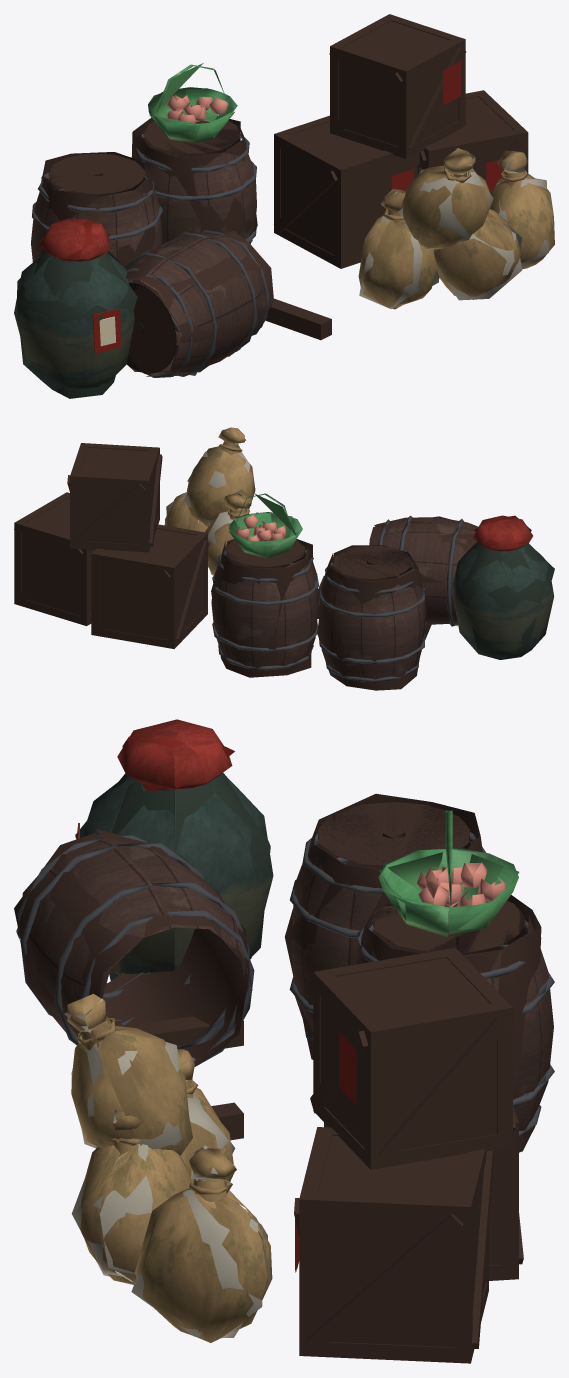
The model's file is prop_market_goods.gltf.
3 renders of one model, top to bottom at view 1: azimuth 30°, elevation 25°; view 2: azimuth 150°, elevation 25°; view 3: azimuth 270°, elevation 25°, orthographic. The views are drawn at different scales.
Parts seen in each view (by area): view 1: Far, Near; view 2: Far, Near; view 3: Far, Near.
Boxes of the visible parts, bbox=[...] form: Far: bbox=[16, 14, 548, 398]; Near: bbox=[14, 64, 554, 389]; Far: bbox=[14, 429, 554, 690]; Near: bbox=[164, 427, 554, 685]; Far: bbox=[14, 736, 547, 1363]; Near: bbox=[17, 719, 554, 1342].
Size of the model in its own units: 3.73 by 1.32 by 1.97.
Materials: 11 (7 with a texture image).
